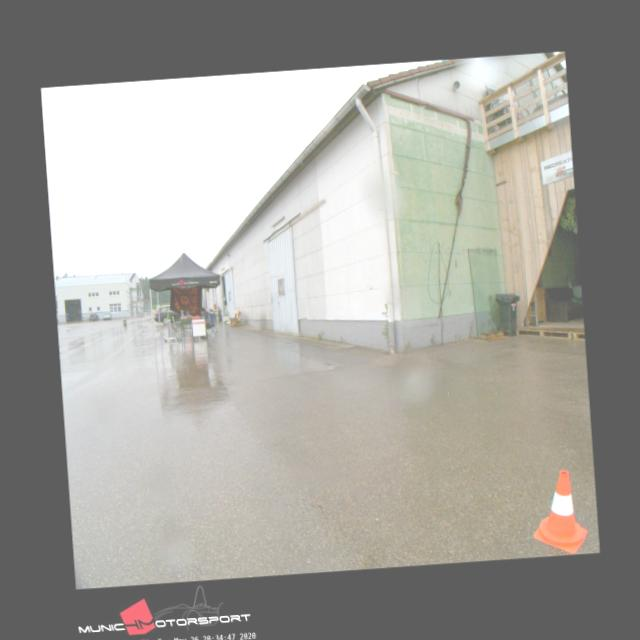orange_cone: (528, 468, 588, 556)
